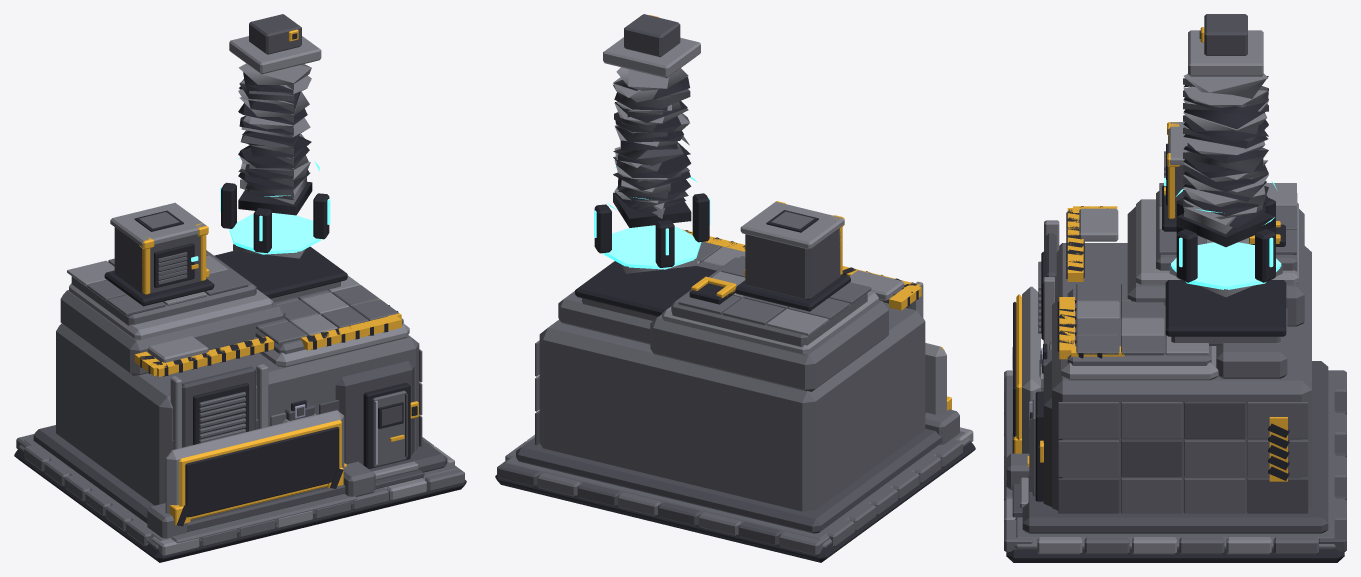
Rendered from power_node_lod2.glb.
3 renders of one model, left to right at view 1: azimuth 30°, elevation 25°; view 2: azimuth 150°, elevation 25°; view 3: azimuth 270°, elevation 25°, orthographic. The views are drawn at different scales.
Parts seen in each view (by area): view 1: Foundation_Dark_steel, Building_Cyan_emissive; view 2: Foundation_Dark_steel, Building_Cyan_emissive; view 3: Foundation_Dark_steel, Building_Cyan_emissive.
Part boxes in pixels (box(x1,y1,x2,y2)): Foundation_Dark_steel: box(14, 14, 466, 562); Building_Cyan_emissive: box(191, 158, 330, 261); Foundation_Dark_steel: box(495, 14, 975, 562); Building_Cyan_emissive: box(594, 167, 710, 269); Foundation_Dark_steel: box(1004, 14, 1346, 562); Building_Cyan_emissive: box(1164, 178, 1281, 289).
Bounding box in the file's own units: 6.35 × 8.17 × 5.21.
2 materials, 2 textured.
